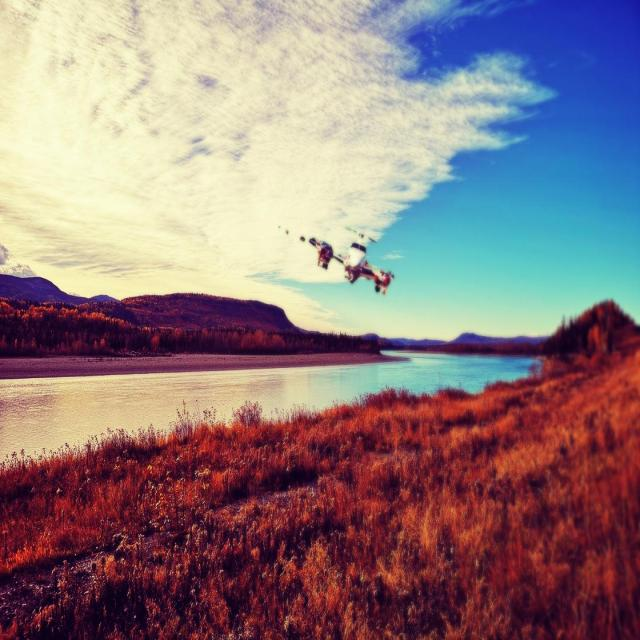airplane: (300, 228, 394, 294)
